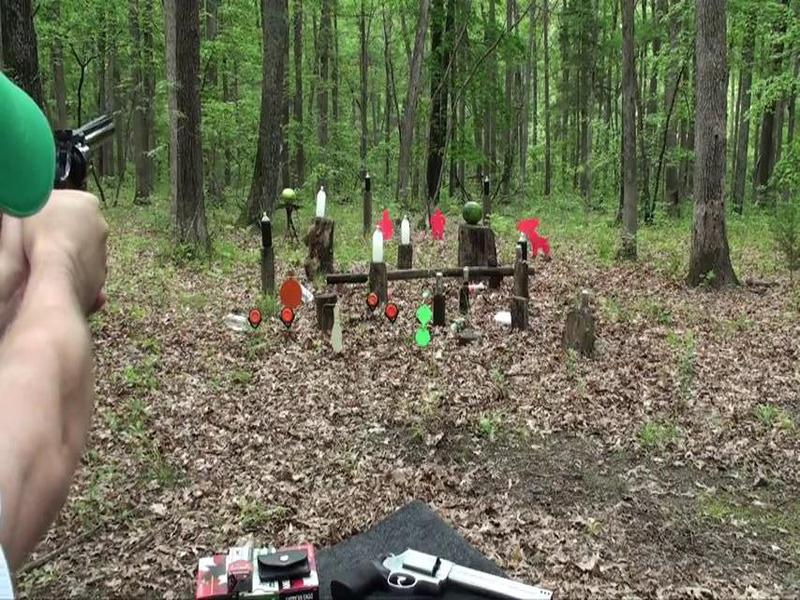Revolver: (42, 94, 115, 223)
